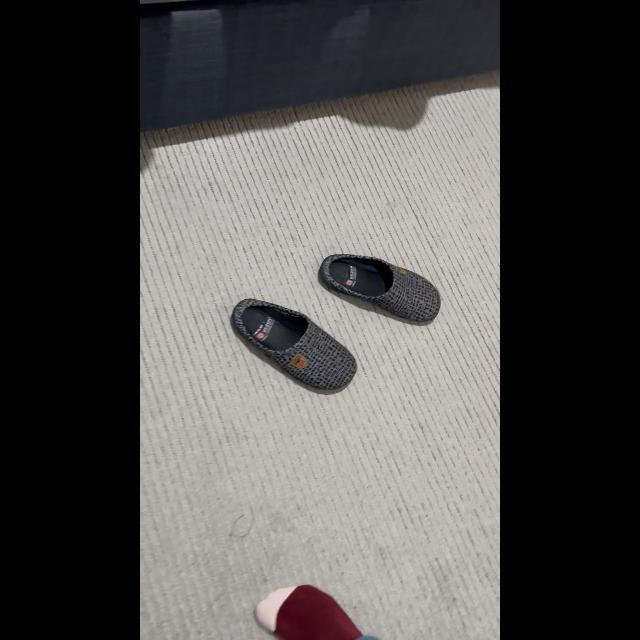slipper: (226, 292, 366, 398), (318, 244, 442, 334)
